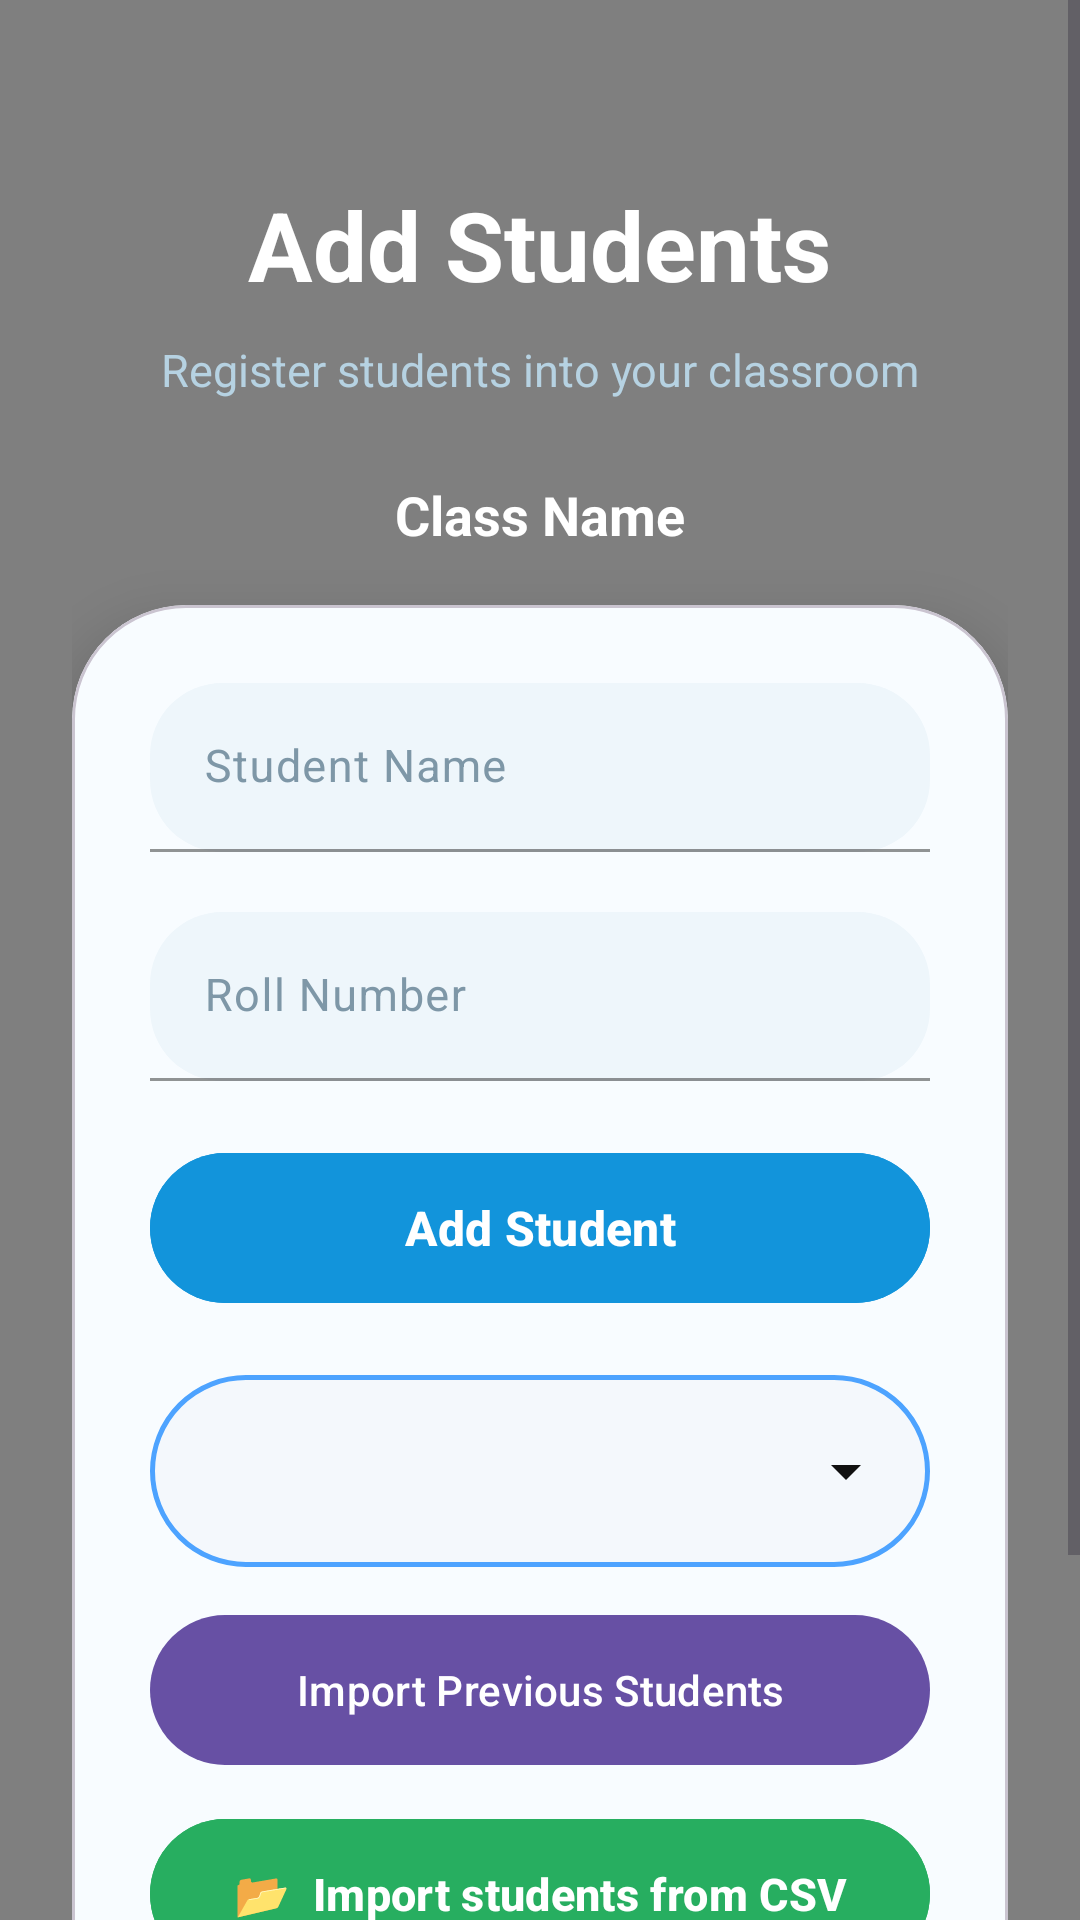

Icon click points for this 1080×1920 phone screenshot, format point (x, y):
spinner arrow: point (846, 1472)
